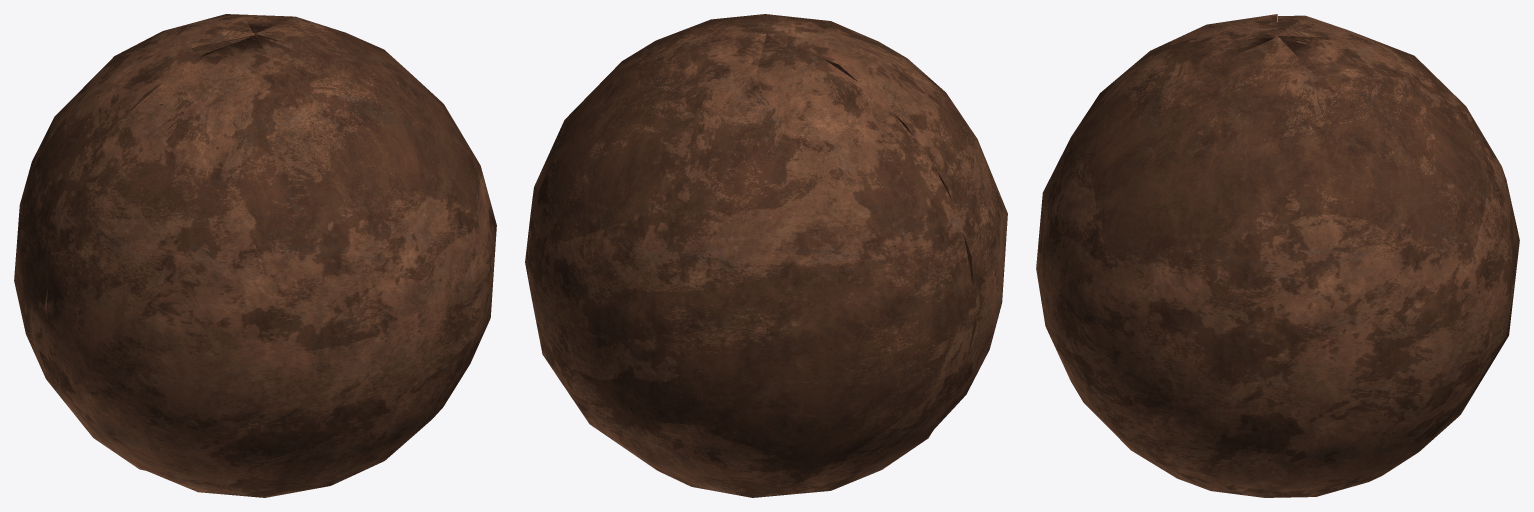
File: planeta1.obj
3 renders of one model, left to right at view 1: azimuth 30°, elevation 25°; view 2: azimuth 150°, elevation 25°; view 3: azimuth 270°, elevation 25°, orthographic.
Parts seen in each view (by area): view 1: Object_20; view 2: Object_20; view 3: Object_20.
Boxes of the visible parts, x1,y1,x2,y2 form: Object_20: (14, 14, 496, 497); Object_20: (525, 14, 1007, 497); Object_20: (1036, 14, 1519, 497).
Bounding box in the file's own units: 2 × 2.02 × 2.
